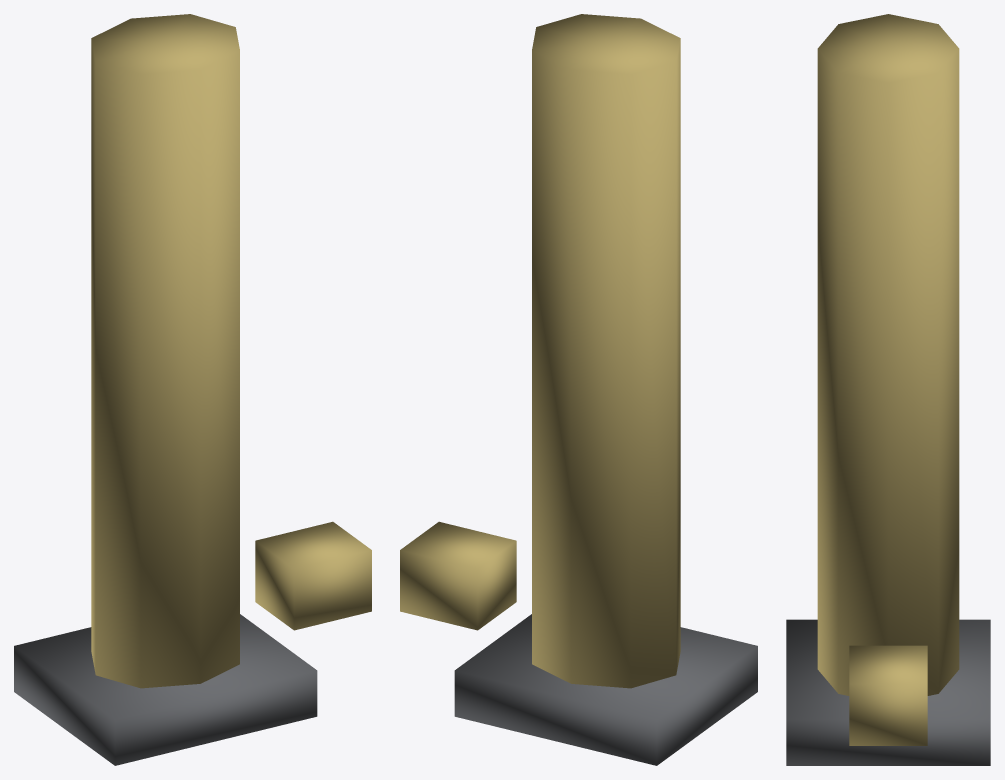
The model's file is bollard_11.glb.
3 views of the same model, side by side, from view 1: azimuth 30°, elevation 25°; view 2: azimuth 150°, elevation 25°; view 3: azimuth 270°, elevation 25° (orthographic).
Parts seen in each view (by area): view 1: world; view 2: world; view 3: world.
Boxes of the visible parts, x1,y1,x2,y2 form: world: (14,14,371,765); world: (400,14,757,765); world: (786,14,990,765).
Size of the model in its own units: 0.3848 by 0.8428 by 0.234.
